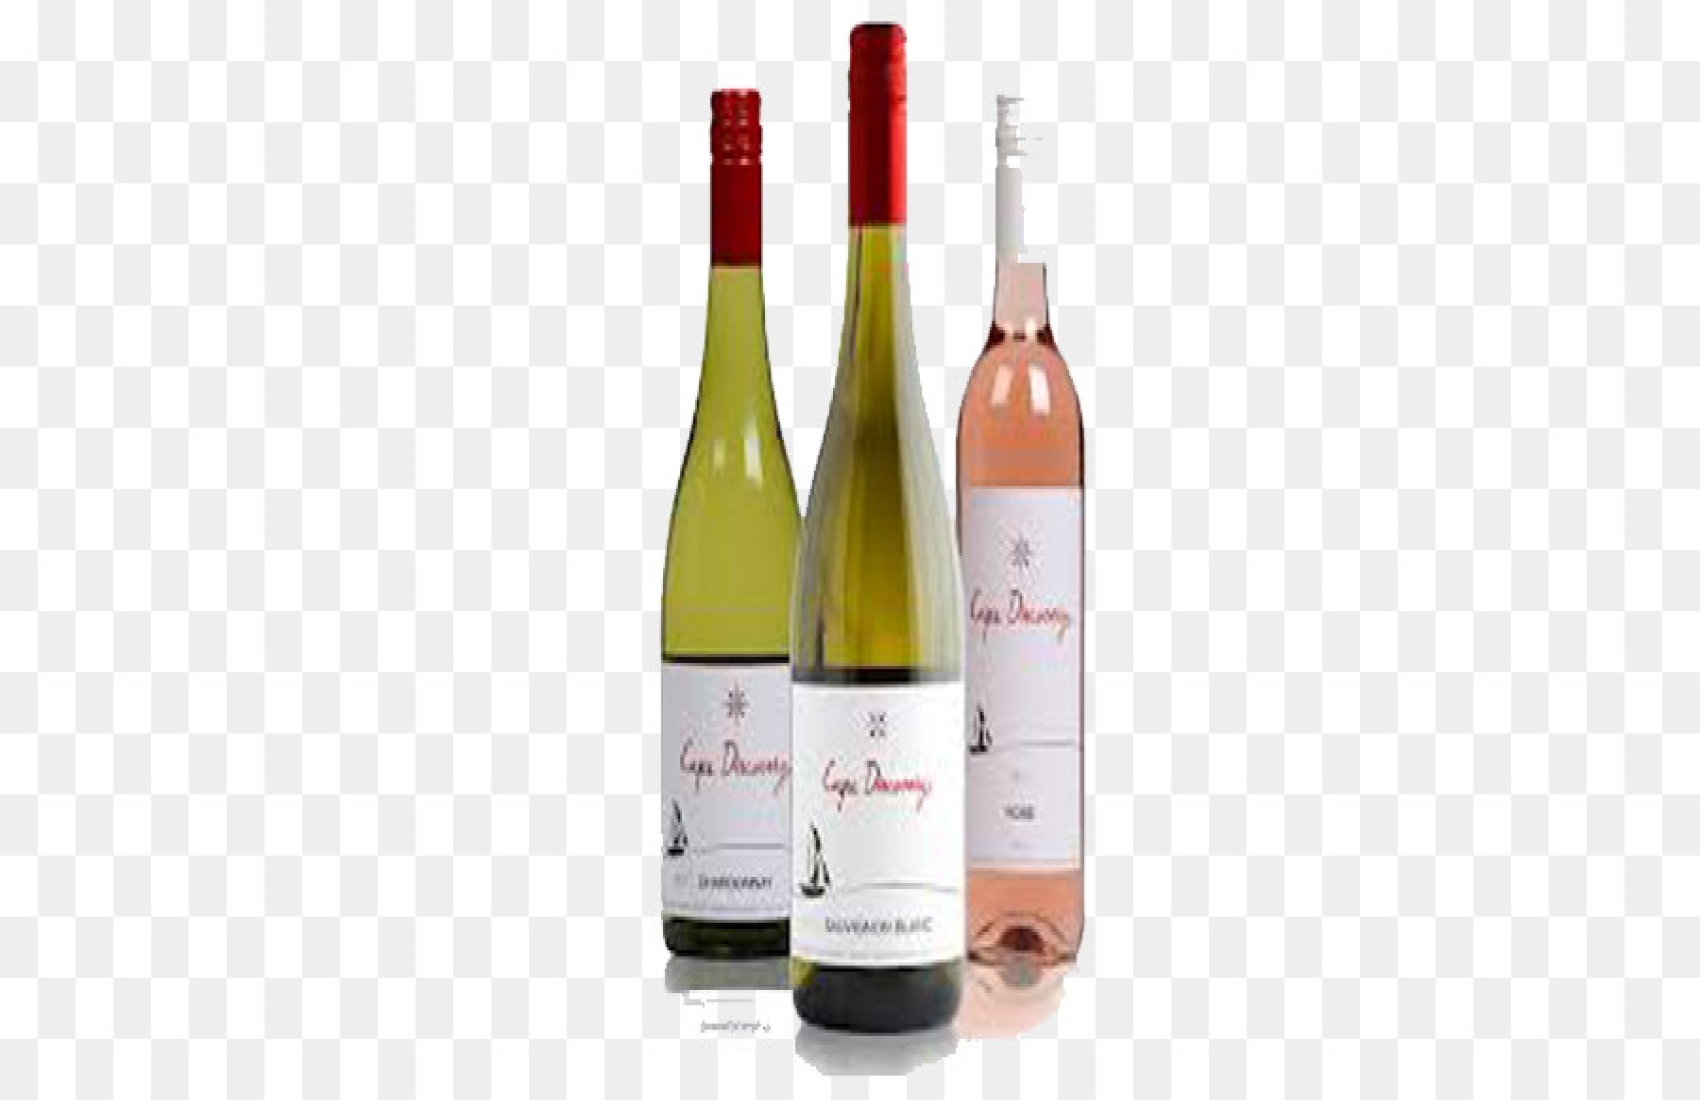wine: (791, 51, 965, 1024), (940, 56, 1082, 995), (660, 59, 800, 998)
